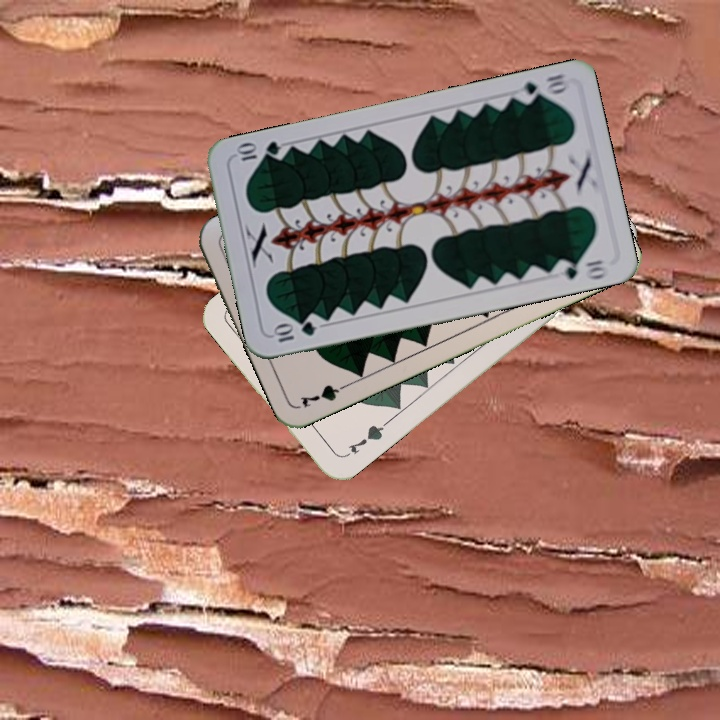G10: (514, 70, 570, 106), (269, 317, 319, 345)
G7: (339, 419, 389, 461), (296, 378, 354, 410)
